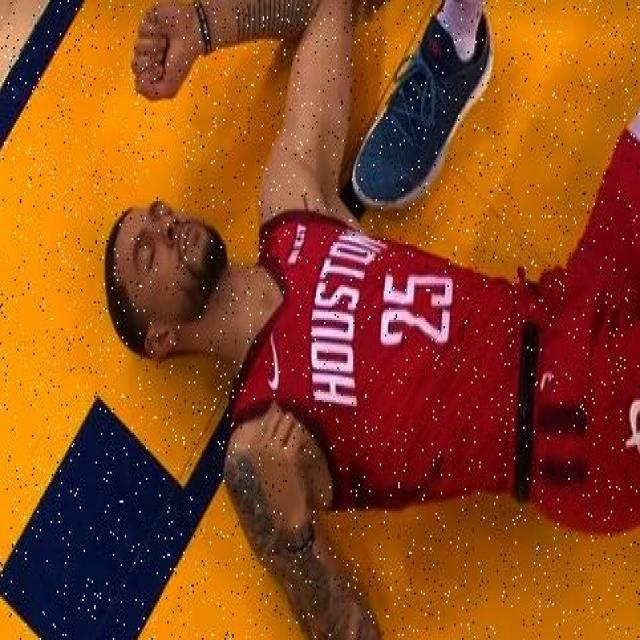fall: (102, 10, 638, 618)
